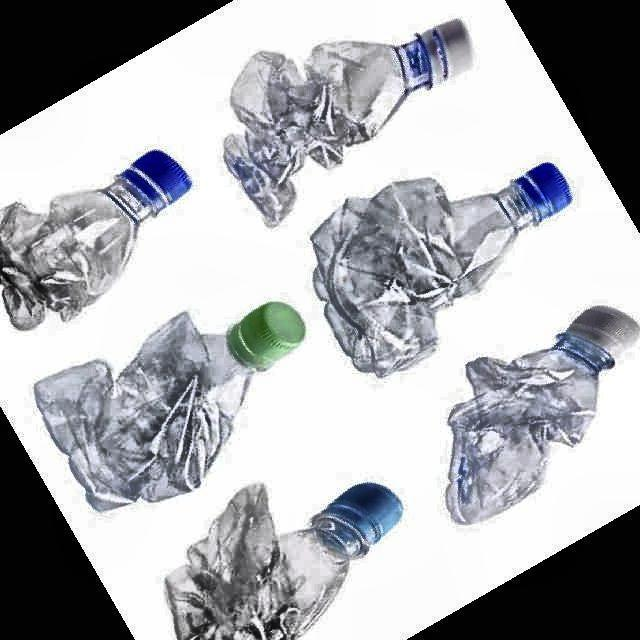plastic: (36, 302, 304, 509), (311, 163, 571, 376), (224, 19, 471, 226), (446, 307, 637, 524), (165, 483, 401, 639), (0, 151, 190, 329)
